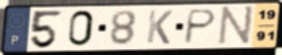0: (67, 9, 95, 48)
5: (27, 9, 65, 49)
8: (108, 9, 140, 46)
K: (145, 9, 175, 46)
N: (216, 5, 256, 47)
P: (181, 8, 218, 46)
